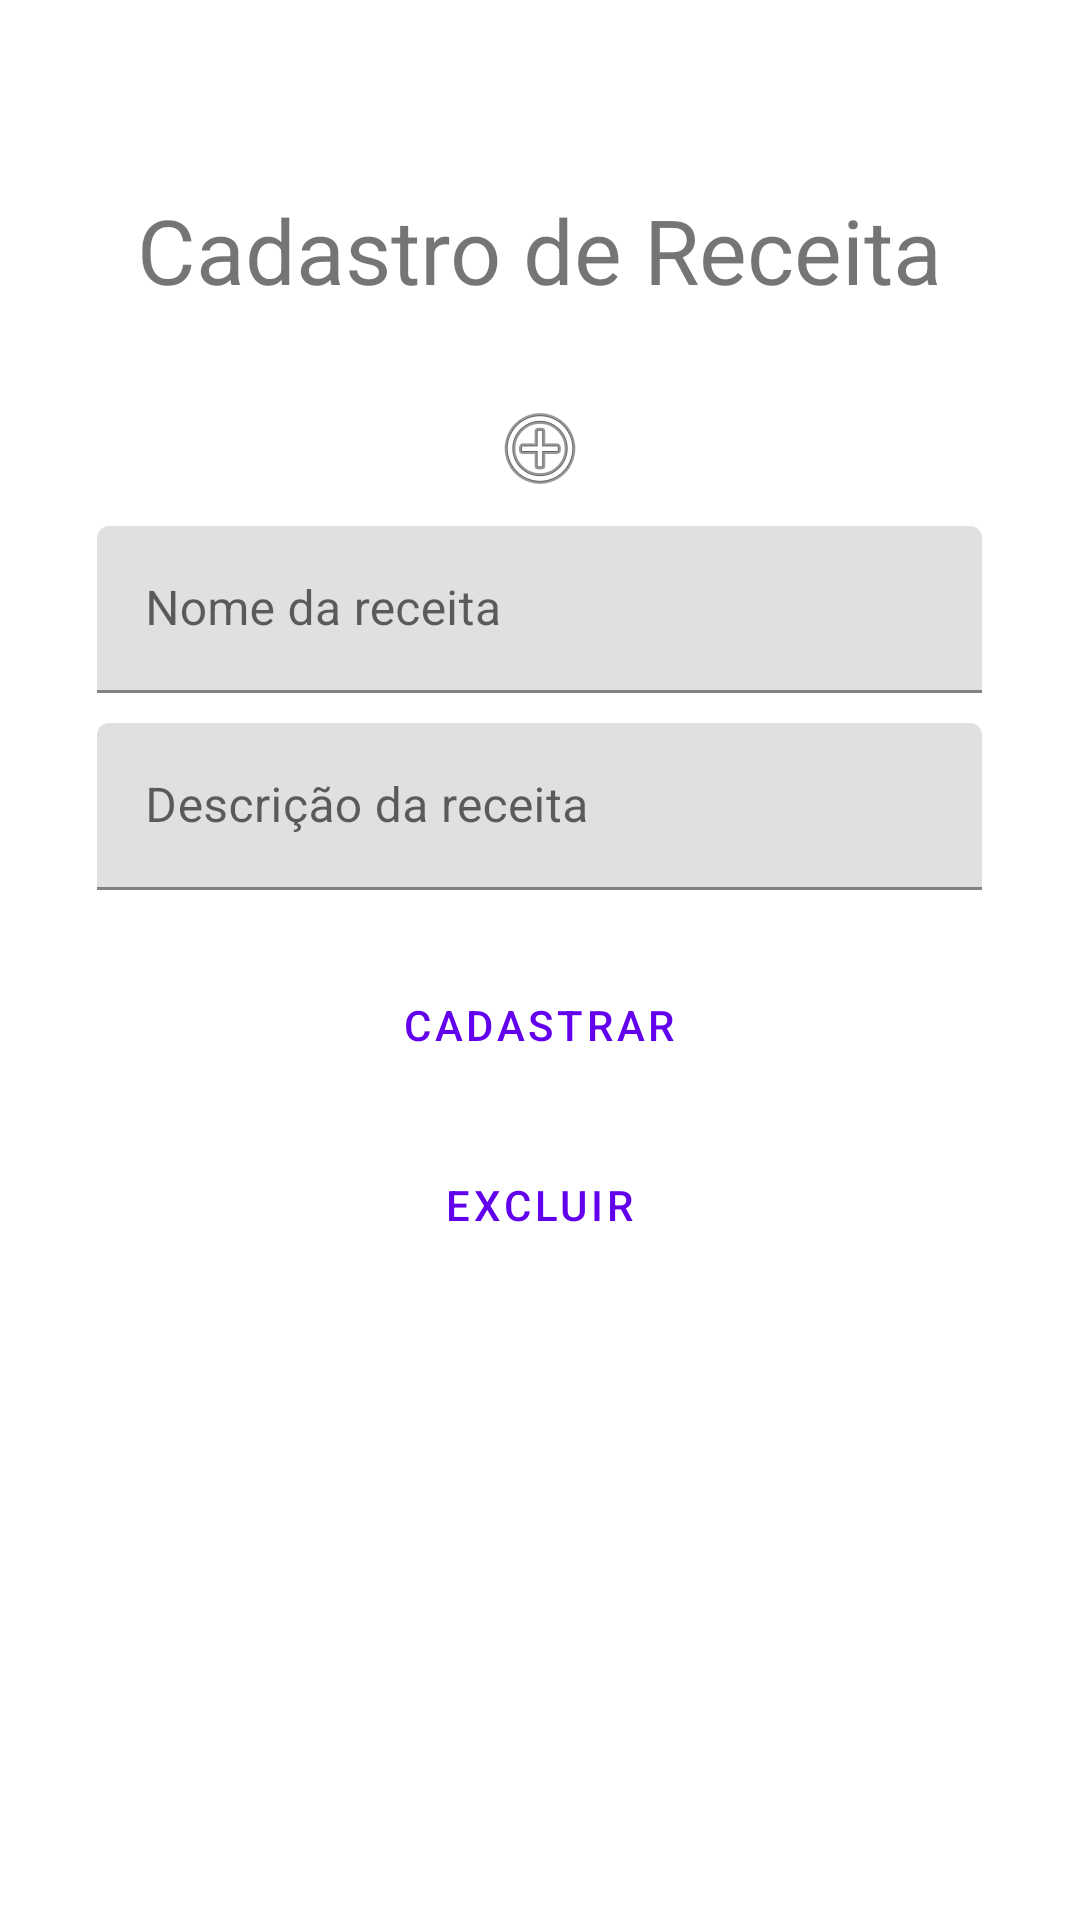

Where to tap for icons on this 1080*1920 app screen, as [x,y]:
add: [540,448]
